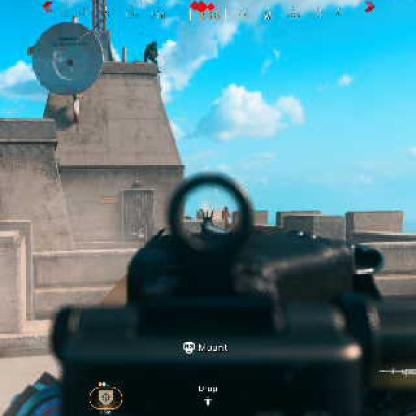enemy: (143, 42, 160, 66), (221, 206, 229, 224)
